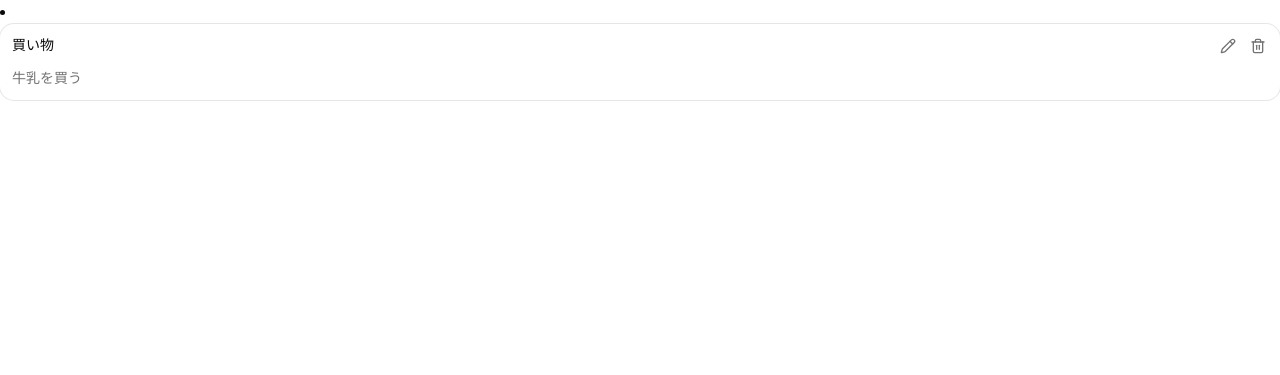
Scenario: TaskCard 編集 › 保存がサーバーエラーになると、エラーを表示し入力を残したまま編集を続ける
Click the button named "「買い物」を編集".
click(1228, 46)  # box [1214,32,1242,60]
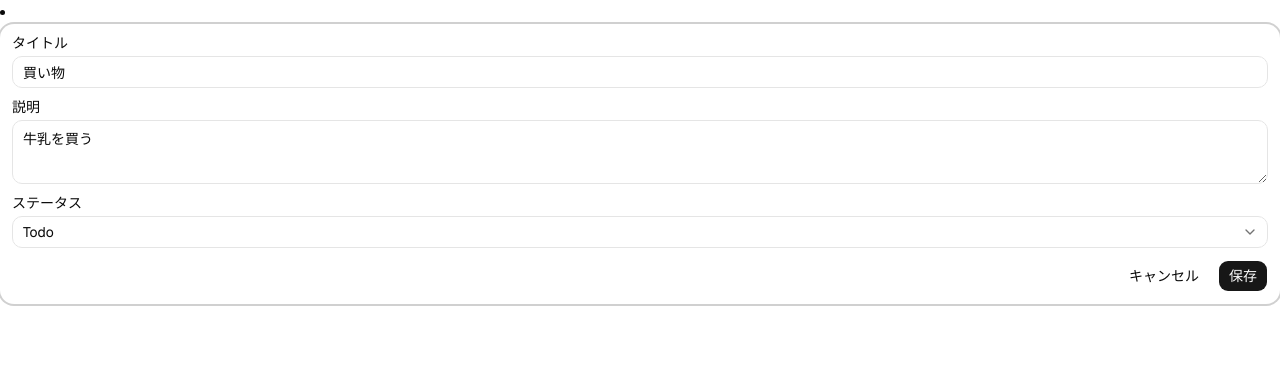
Type "!" into the field labelled "タイトル".
click(640, 72); type("!")  # box [12,56,1268,88]
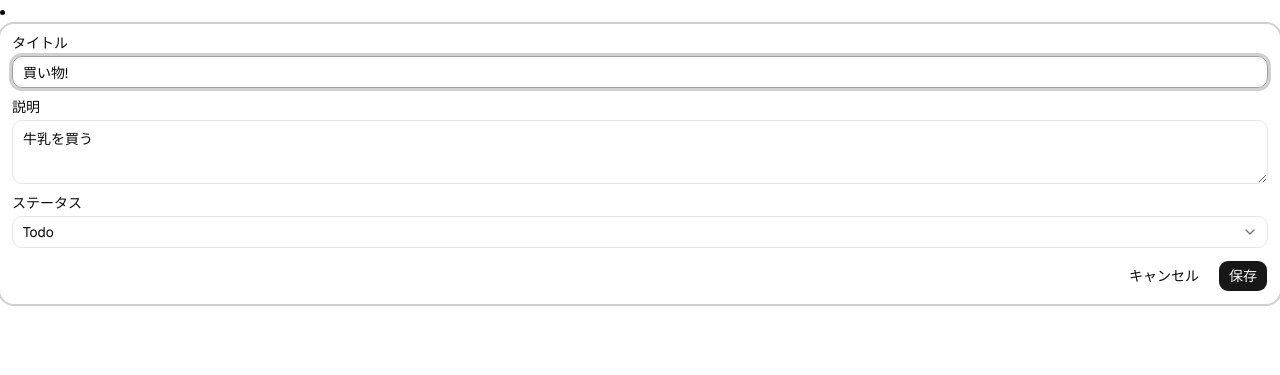
Click the button "保存".
click(1243, 276)  # box [1218,260,1268,292]
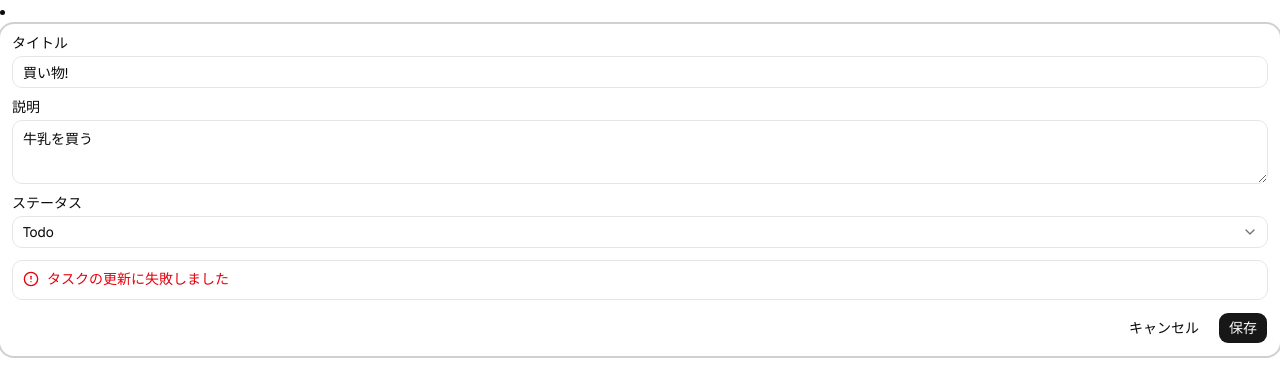
Check: the field labelled "タイトル" holds "買い物!", box [12,56,1268,88]
Check: the message reads "タスクの更新に失敗しました", box [47,270,229,288]
